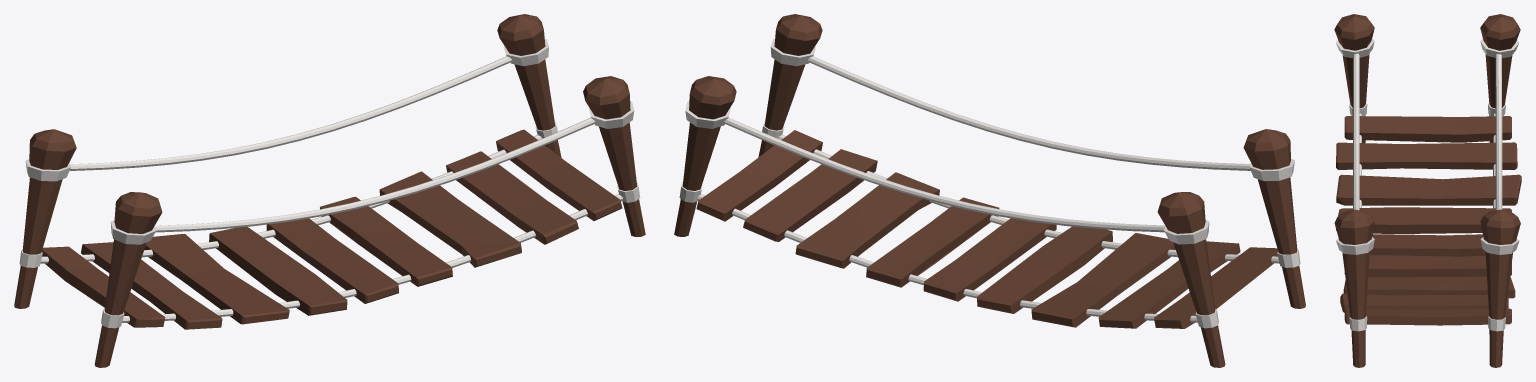
File: Bridge.fbx
The picture shows the model from 3 angles, left to right: view 1: azimuth 30°, elevation 25°; view 2: azimuth 150°, elevation 25°; view 3: azimuth 270°, elevation 25°; orthographic projection. The views are drawn at different scales.
Parts seen in each view (by area): view 1: Bridge; view 2: Bridge; view 3: Bridge.
Part boxes in pixels (left/top/right/bottom): Bridge: left=14, top=14, right=645, bottom=367; Bridge: left=674, top=14, right=1305, bottom=367; Bridge: left=1334, top=14, right=1521, bottom=367.
Size of the model in its own units: 6.48 by 1.87 by 2.25.
